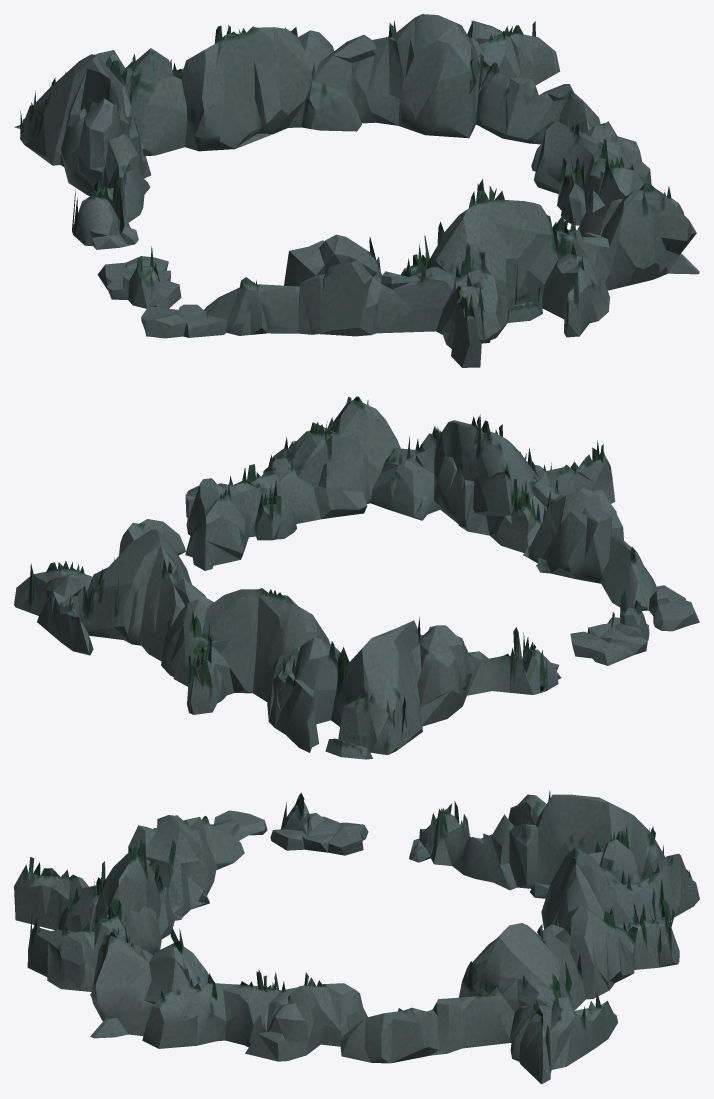
Rendered from ridge.glb.
3 views of the same model, one above another, from view 1: azimuth 30°, elevation 25°; view 2: azimuth 150°, elevation 25°; view 3: azimuth 270°, elevation 25° (orthographic). The views are drawn at different scales.
Parts seen in each view (by area): view 1: output_unwrapped; view 2: output_unwrapped; view 3: output_unwrapped.
Boxes of the visible parts, <box> form: output_unwrapped: <box>14,14,699,367</box>; output_unwrapped: <box>14,396,699,759</box>; output_unwrapped: <box>14,790,699,1084</box>.
Bounding box in the file's own units: 1.72 × 0.3462 × 1.89.
1 material, 1 textured.
